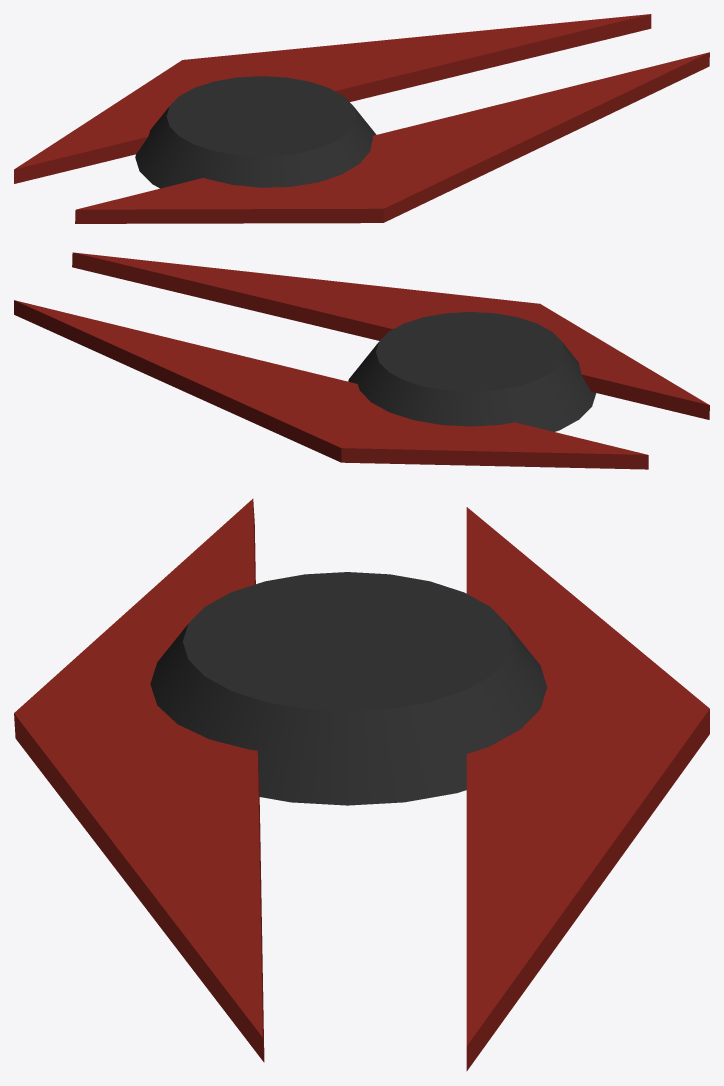
Rendered from Kleiner_Gegner2_painted.fbx.
3 views of the same model, one above another, from view 1: azimuth 30°, elevation 25°; view 2: azimuth 150°, elevation 25°; view 3: azimuth 270°, elevation 25° (orthographic). The views are drawn at different scales.
Visible parts, largest first — view 1: Prism002, Prism001, Cone001; view 2: Prism001, Cone001, Prism002; view 3: Cone001, Prism001, Prism002.
Part boxes in pixels (box(x1,y1,x2,y2)): Prism002: box(75, 52, 709, 223); Prism001: box(14, 14, 651, 183); Cone001: box(135, 76, 376, 188); Prism001: box(14, 300, 648, 469); Cone001: box(348, 312, 596, 431); Prism002: box(72, 252, 709, 419); Cone001: box(150, 572, 547, 805); Prism001: box(466, 507, 709, 1071); Prism002: box(14, 498, 264, 1062).
Size of the model in its own units: 333 by 21.54 by 182.
